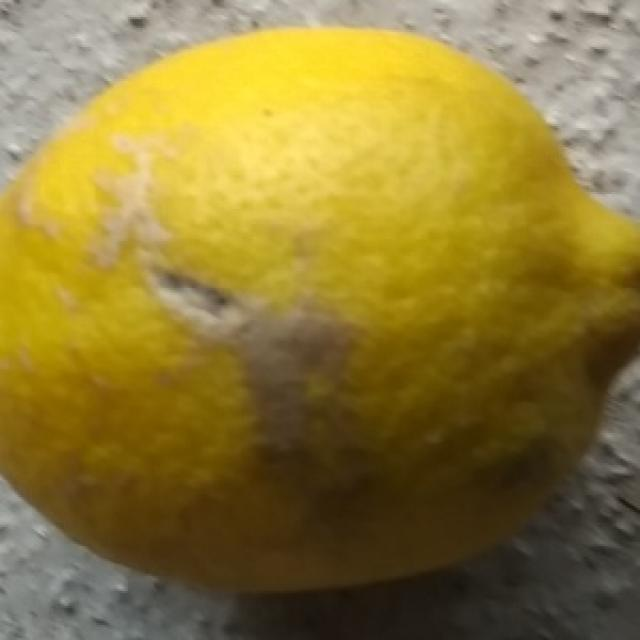overripe: (0, 18, 640, 602)
